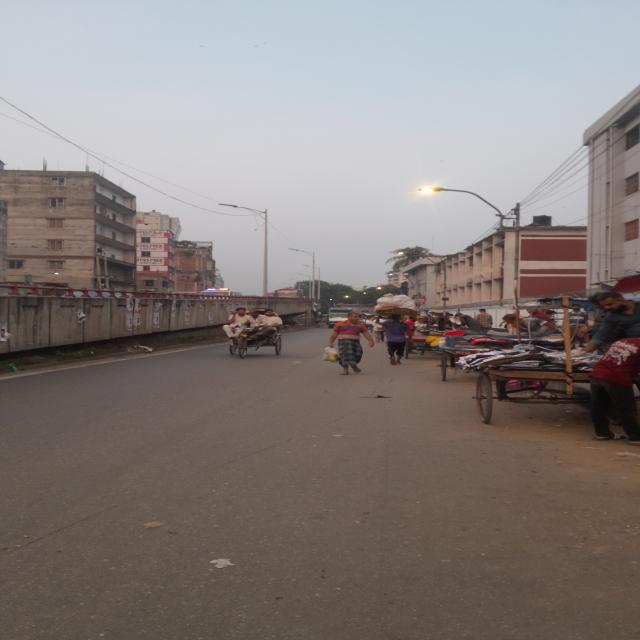person: (329, 312, 374, 375), (382, 315, 411, 365)
